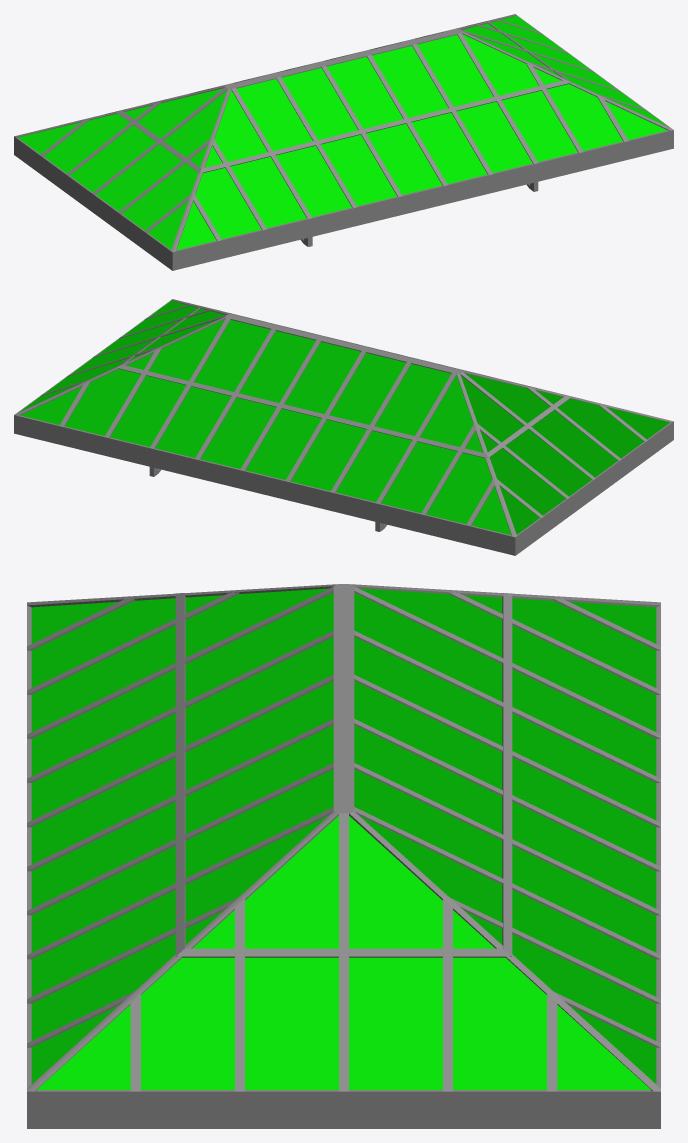
The model's file is Skylight Low Full 2.fbx.
3 views of the same model, one above another, from view 1: azimuth 30°, elevation 25°; view 2: azimuth 150°, elevation 25°; view 3: azimuth 270°, elevation 25° (orthographic). The views are drawn at different scales.
Visible parts, largest first — view 1: Window_Plane_01_low, Components, Window_Plane_02_low; view 2: Window_Plane_01_low, Components, Window_Plane_02_low; view 3: Window_Plane_01_low, Components, Window_Plane_02_low.
Part boxes in pixels (x1,y1,x2,y2): Window_Plane_01_low: (176, 34, 667, 249); Components: (14, 14, 673, 270); Window_Plane_02_low: (18, 16, 667, 249); Window_Plane_01_low: (20, 319, 511, 534); Components: (14, 299, 673, 555); Window_Plane_02_low: (20, 301, 669, 534); Window_Plane_01_low: (31, 588, 656, 1083); Components: (27, 584, 660, 1128); Window_Plane_02_low: (37, 816, 650, 1089).
Size of the model in its own units: 566 by 110 by 310.
